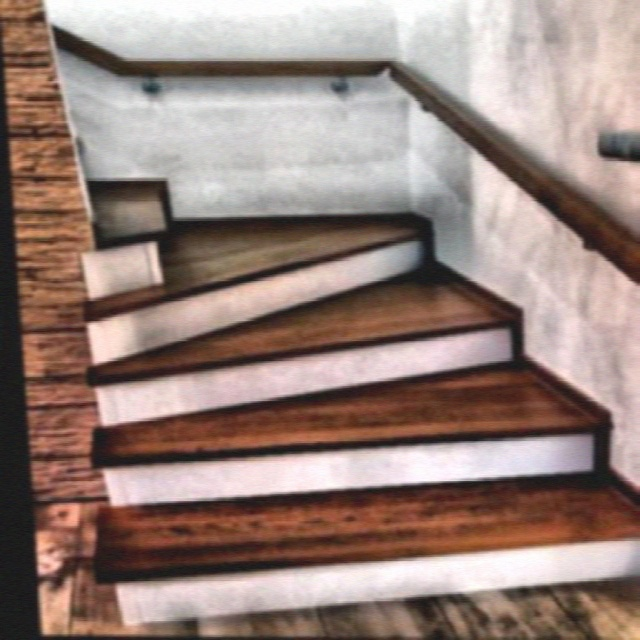stair: (72, 274, 638, 609)
